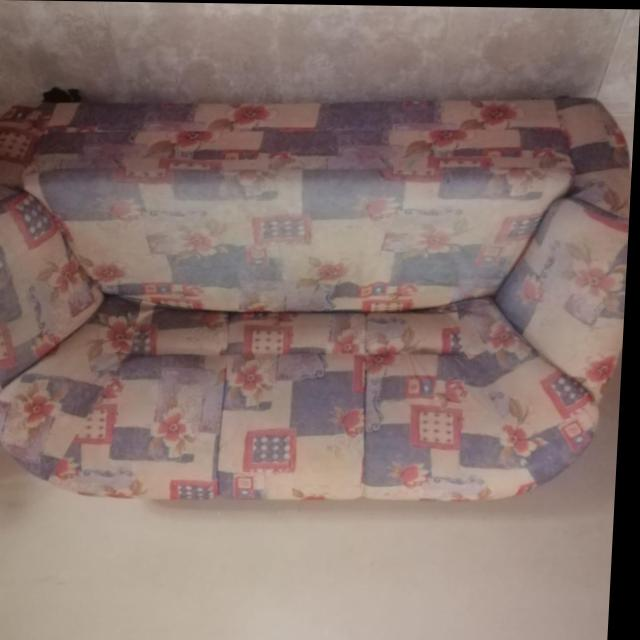Sofa: (0, 88, 636, 505)
